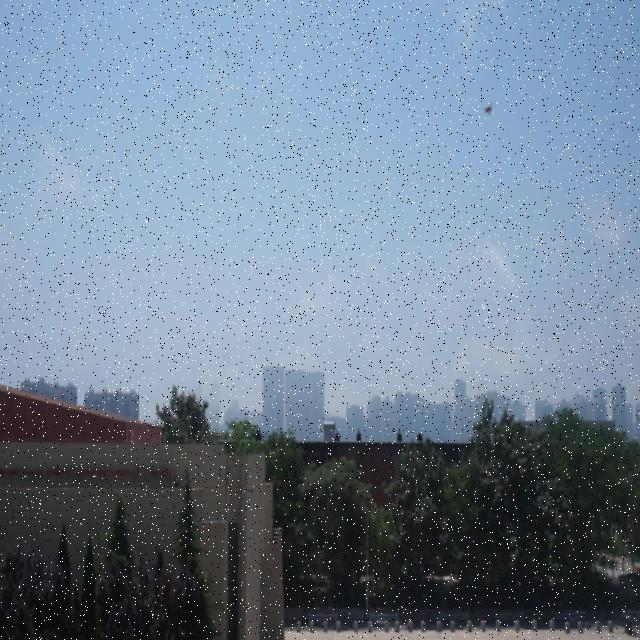UAV: (482, 102, 494, 118)
